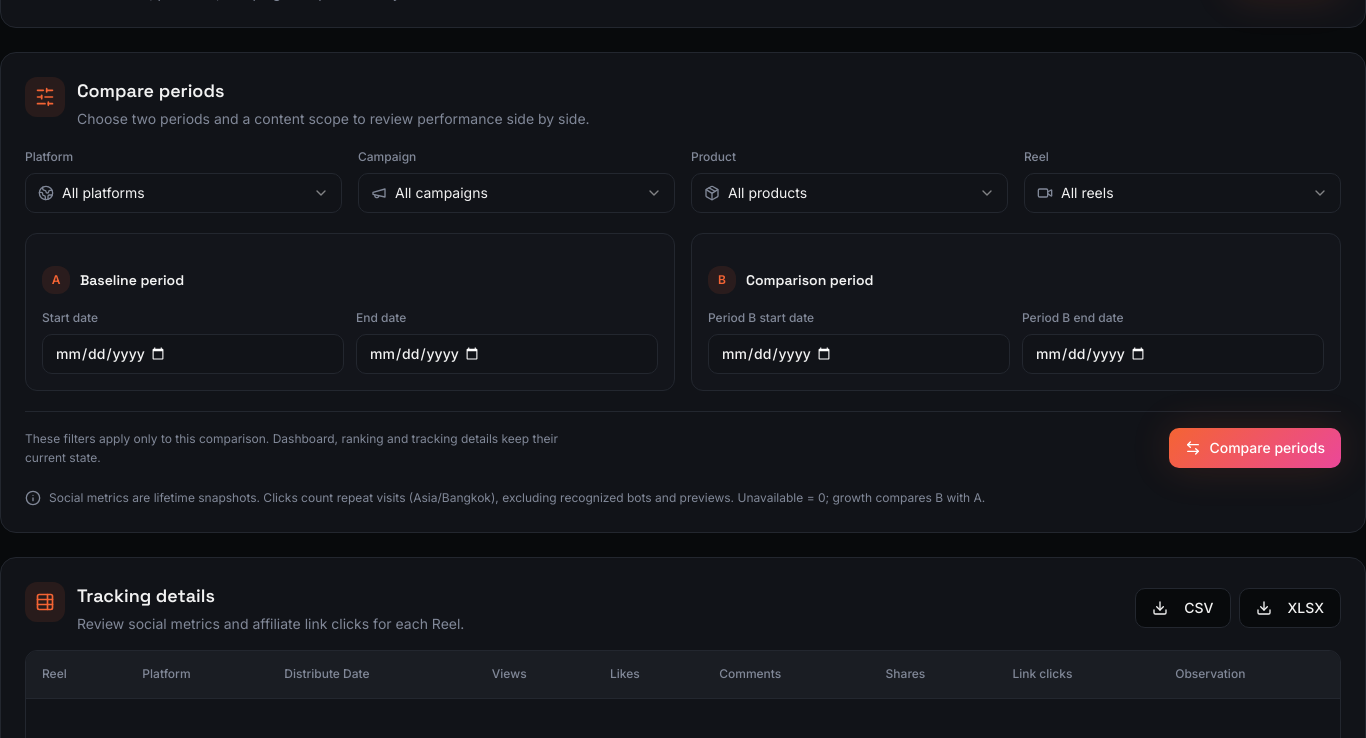
requires end dates strictly after start dates for both periods
(page scrolled)
Check: the heading "Tracking details" is shown, box [77,584,215,606]
Type "2026-01-01" into the date field labelled "Start date" at (193, 354), box [42,334,344,374]
Type "2026-01-01" into the date field labelled "End date" at (507, 354), box [356,334,658,374]
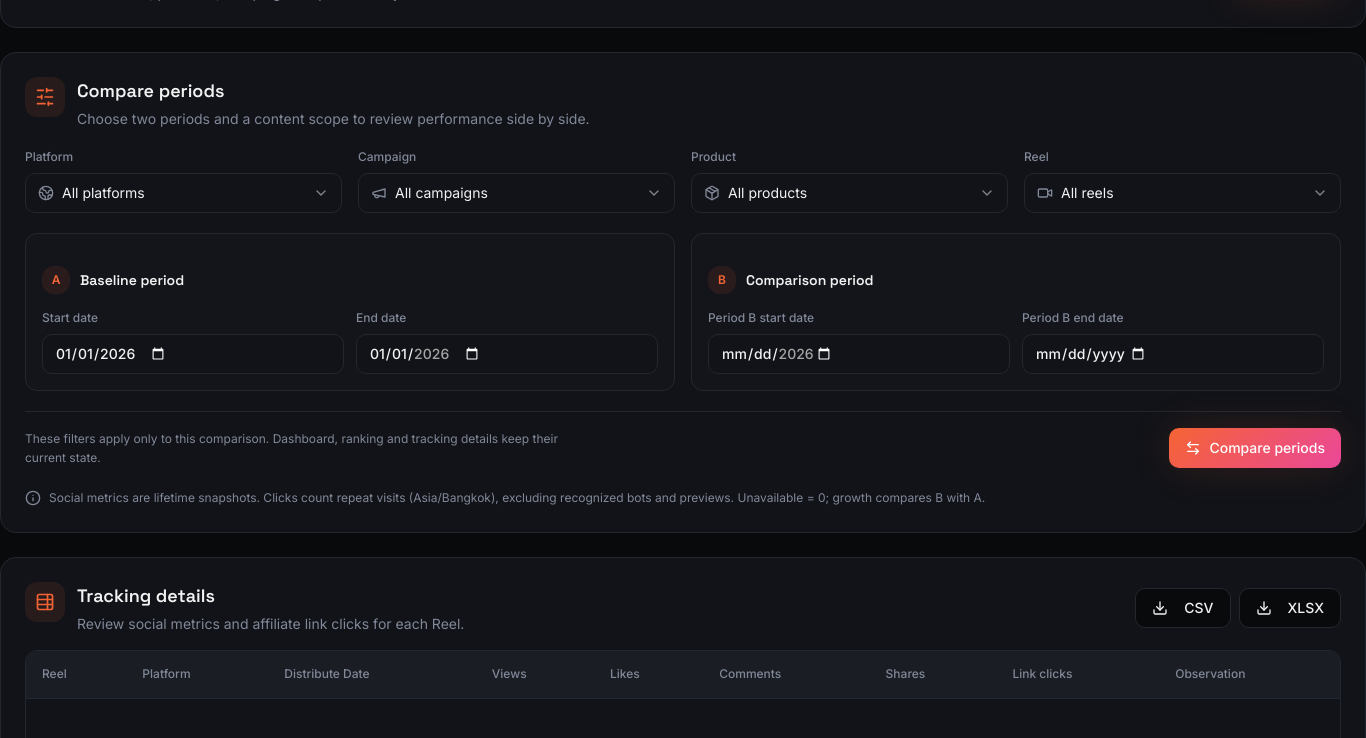
Type "2026-01-08" into the date field labelled "Period B start date" at (859, 354), box [708,334,1010,374]
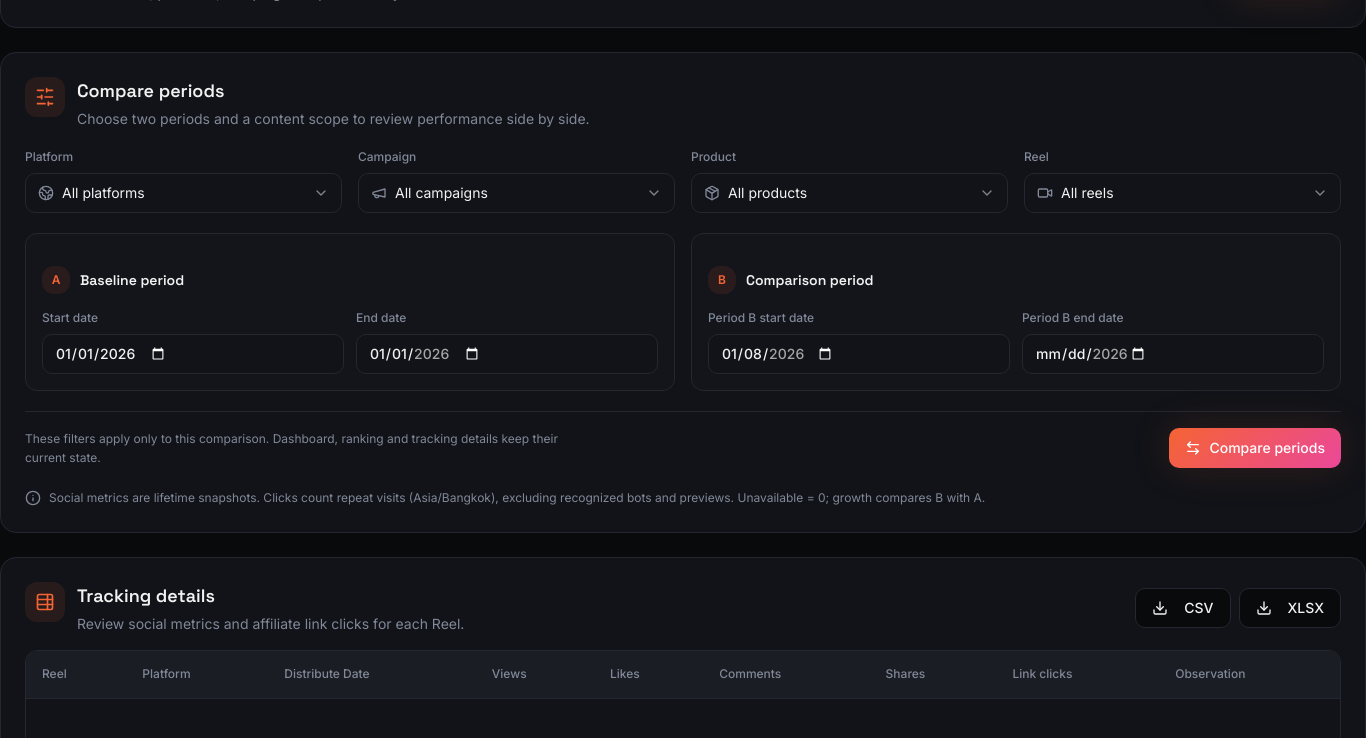
Type "2026-01-08" into the date field labelled "Period B end date" at (1173, 354), box [1022,334,1324,374]
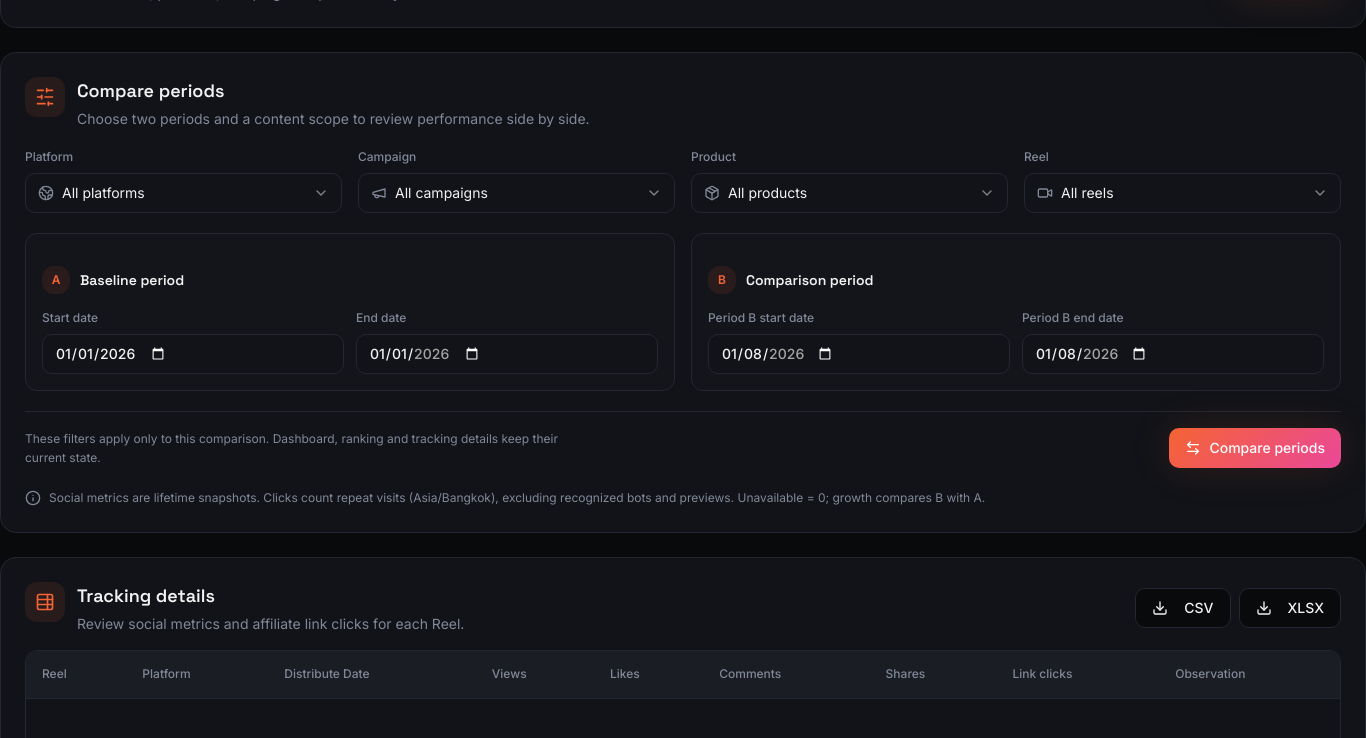
Check: the date field labelled "End date" has attribute min="2026-01-02", box [356,334,658,374]
Check: the date field labelled "Period B end date" has attribute min="2026-01-09", box [1022,334,1324,374]
Click the button "Compare periods" at (1255, 448), box [1169,428,1341,468]
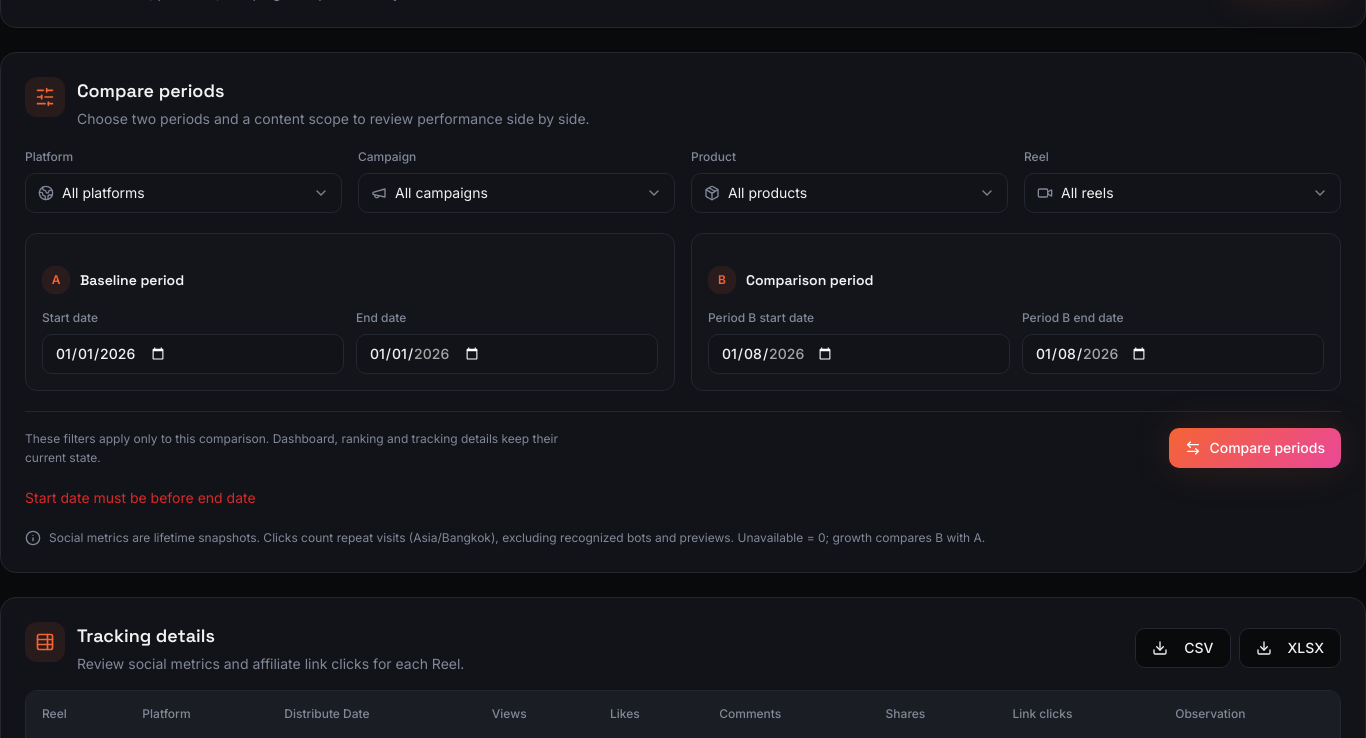
Check: the message reads "Start date must be before end date", box [25,489,256,506]
Type "2026-01-07" into the date field labelled "End date" at (507, 354), box [356,334,658,374]
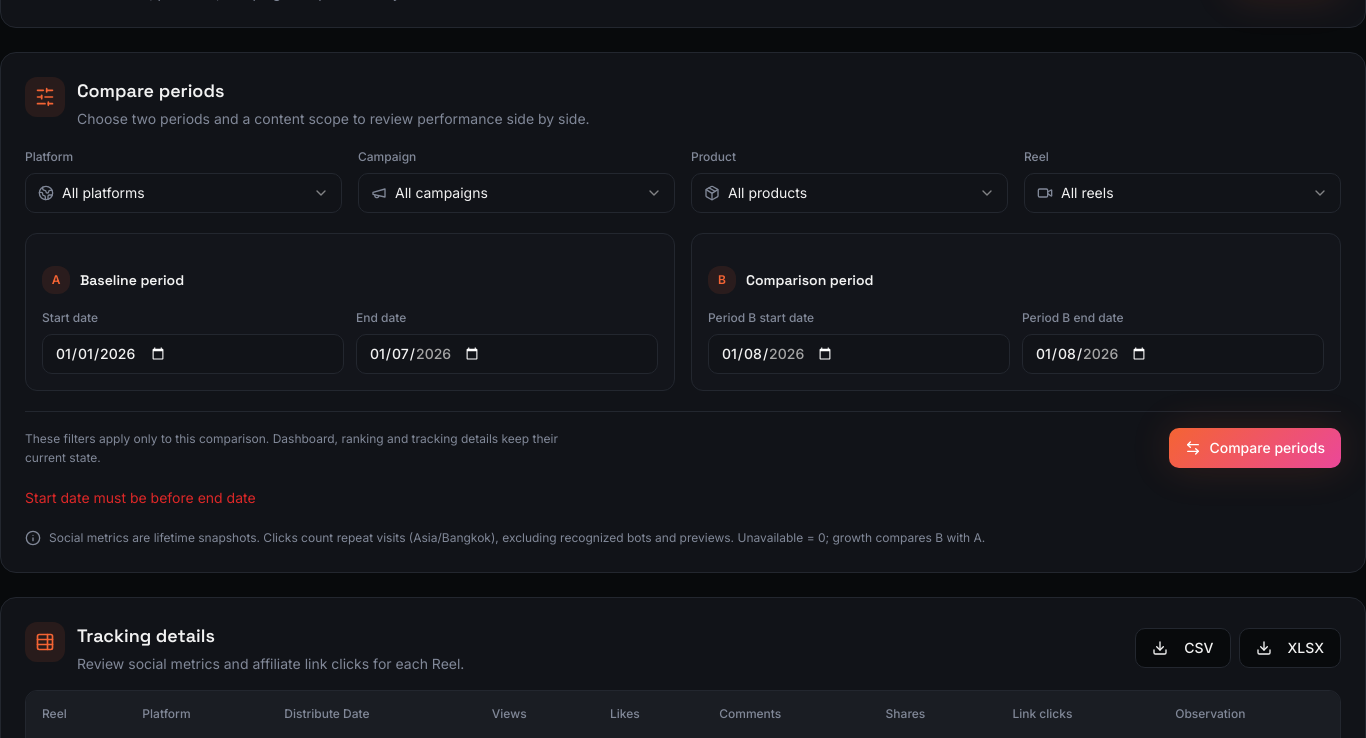
Click the button "Compare periods" at (1255, 448), box [1169,428,1341,468]
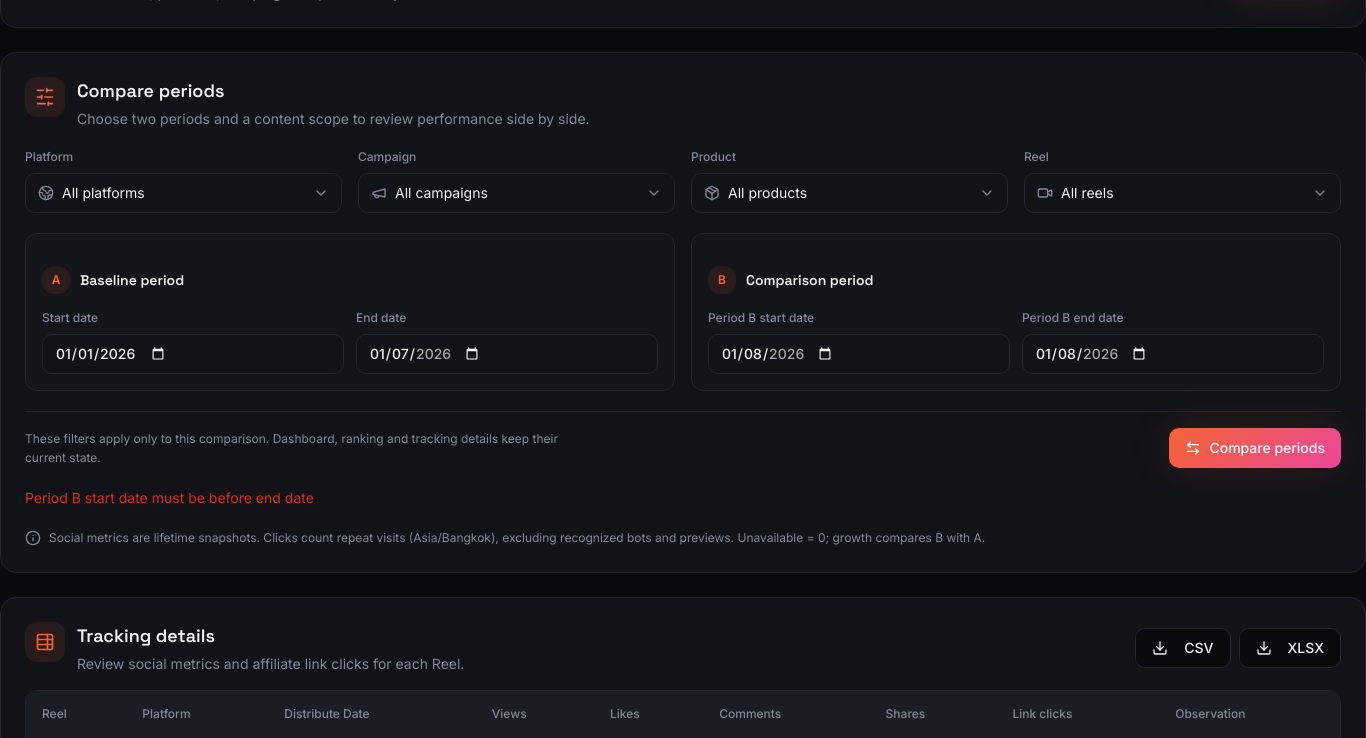
Check: the message reads "Period B start date must be before end date", box [25,489,314,506]
